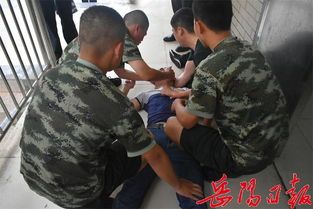fall: (120, 51, 198, 203)
